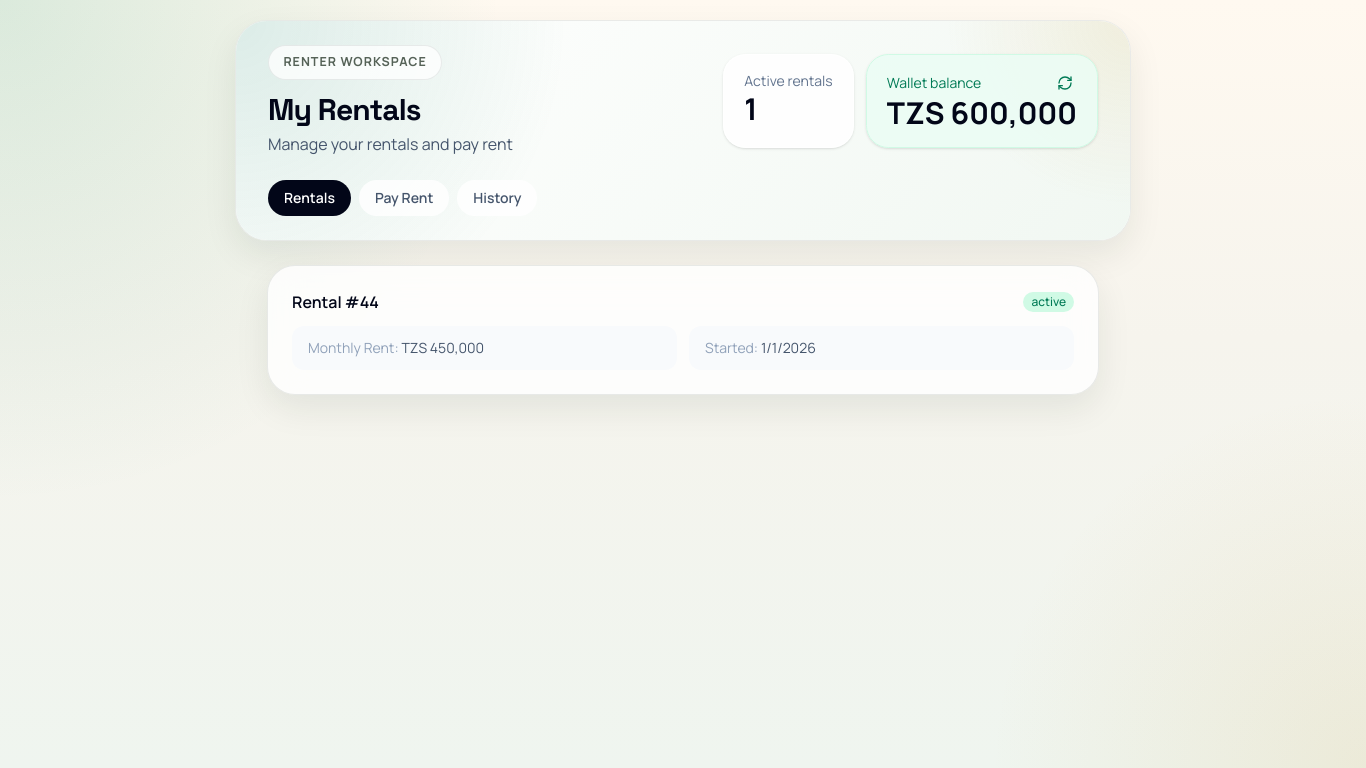
Scenario: MyRentals payment UX › shows confirmation errors without leaving the confirmation step
The width and height of the screenshot is (1366, 768).
Click the button "pay rent" at {"x": 404, "y": 198}, box 359,180 -> 449,216
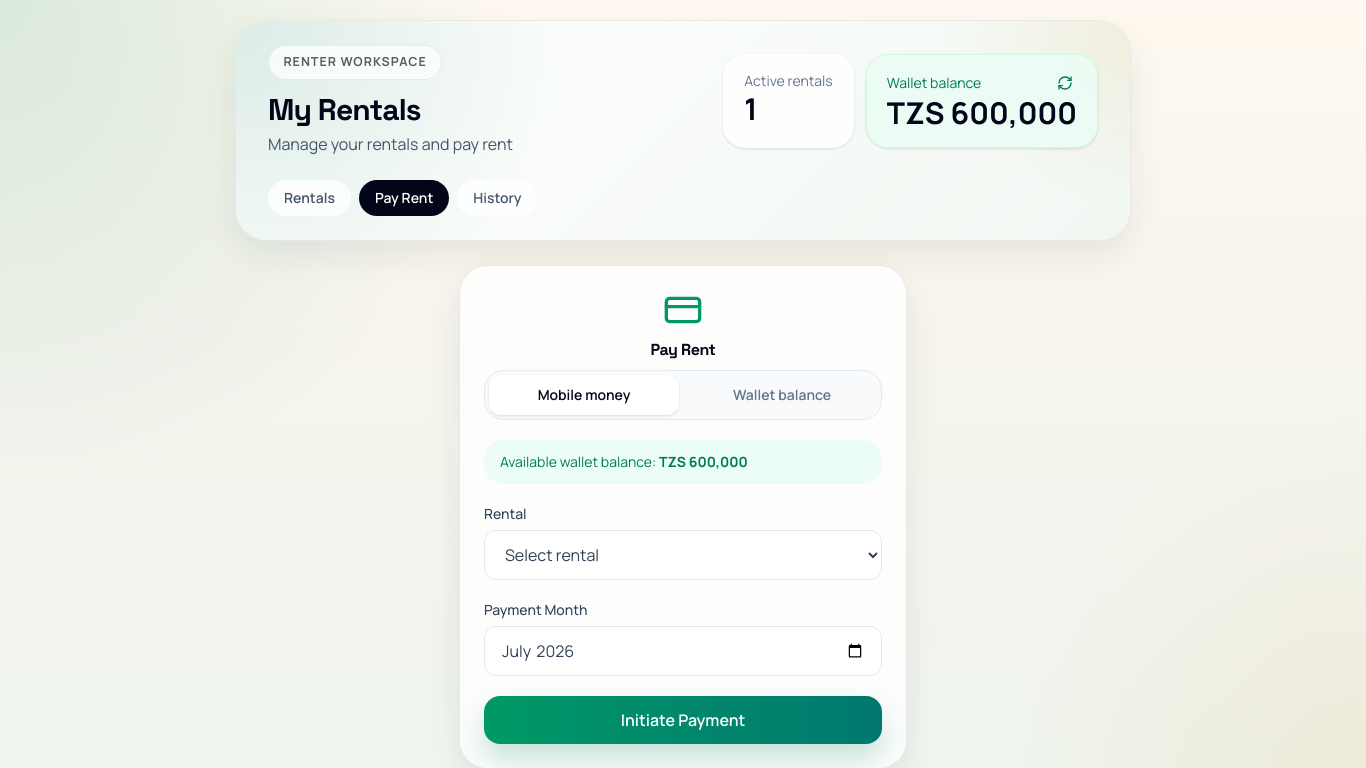
Select "Rental #44 - TZS 450,000/mo" in the dropdown at {"x": 683, "y": 555}, box 484,530 -> 882,580
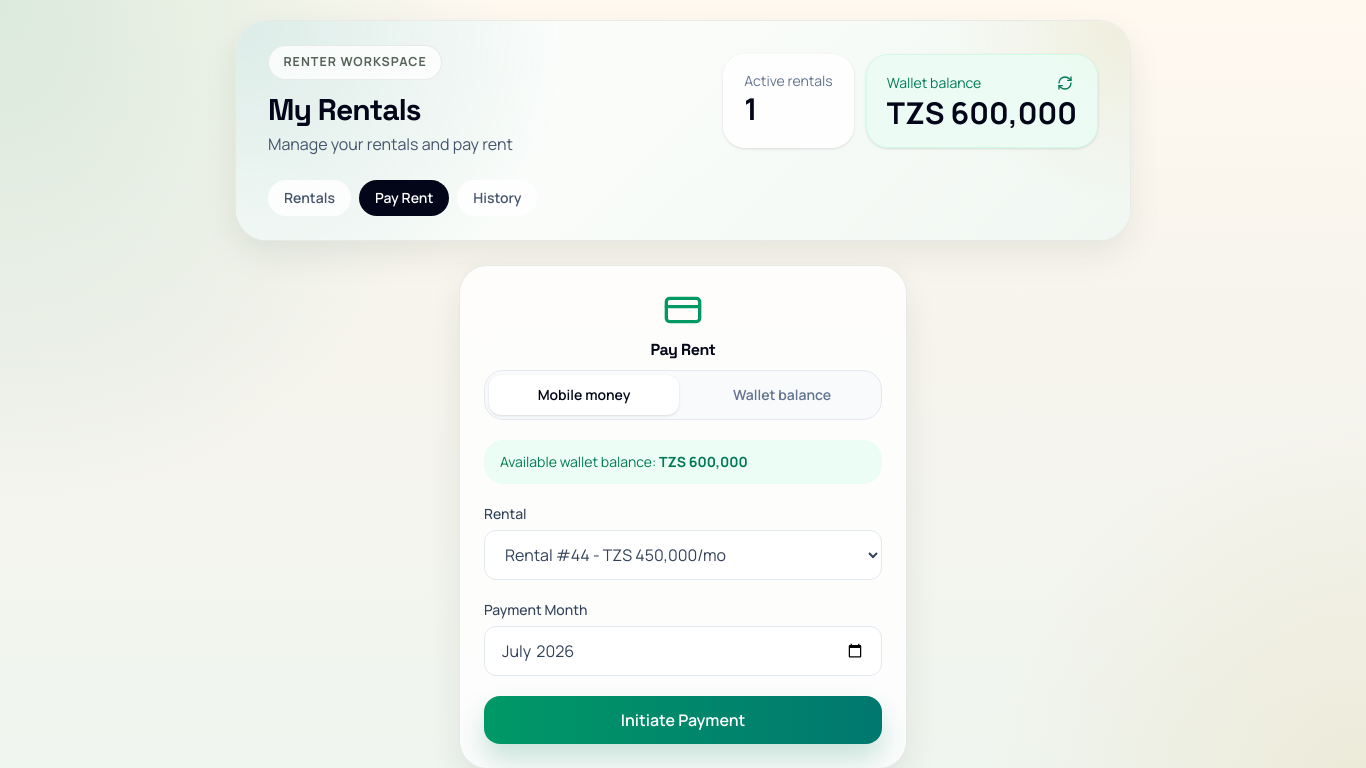
Click the button "Initiate Payment" at {"x": 683, "y": 720}, box 484,696 -> 882,744
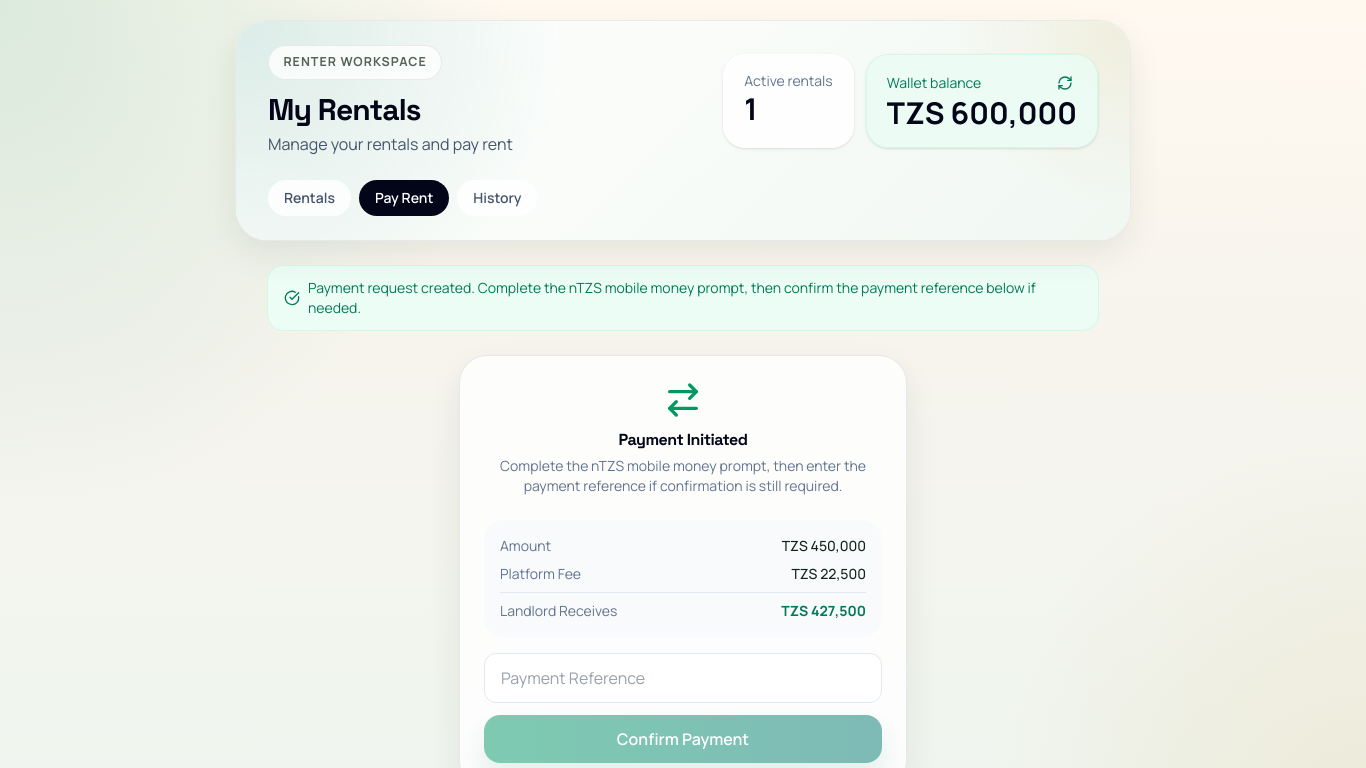
Result: the heading "Payment Initiated" is shown at 618,429 -> 748,450
Type "abc123" into the field with placeholder "Payment Reference" at {"x": 683, "y": 678}, box 484,653 -> 882,703
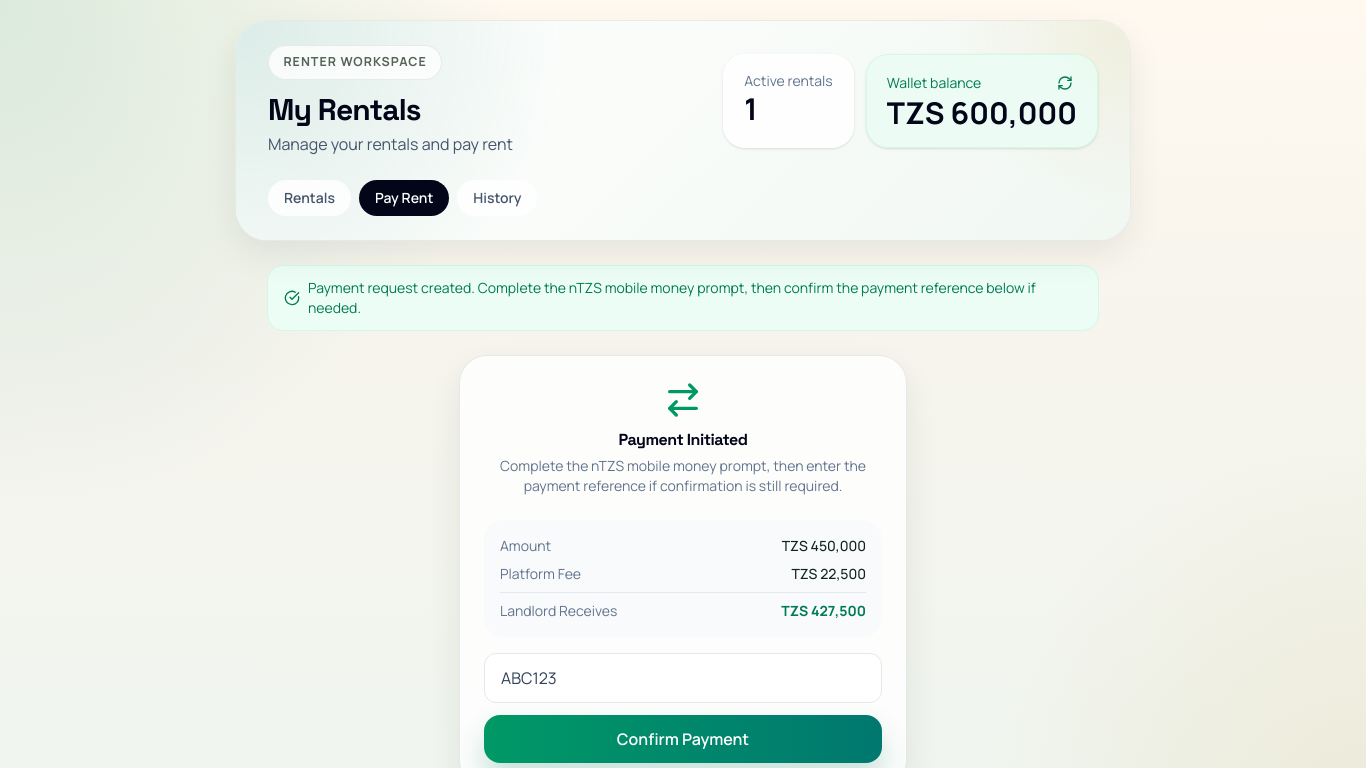
Click the button "Confirm Payment" at {"x": 683, "y": 739}, box 484,715 -> 882,763
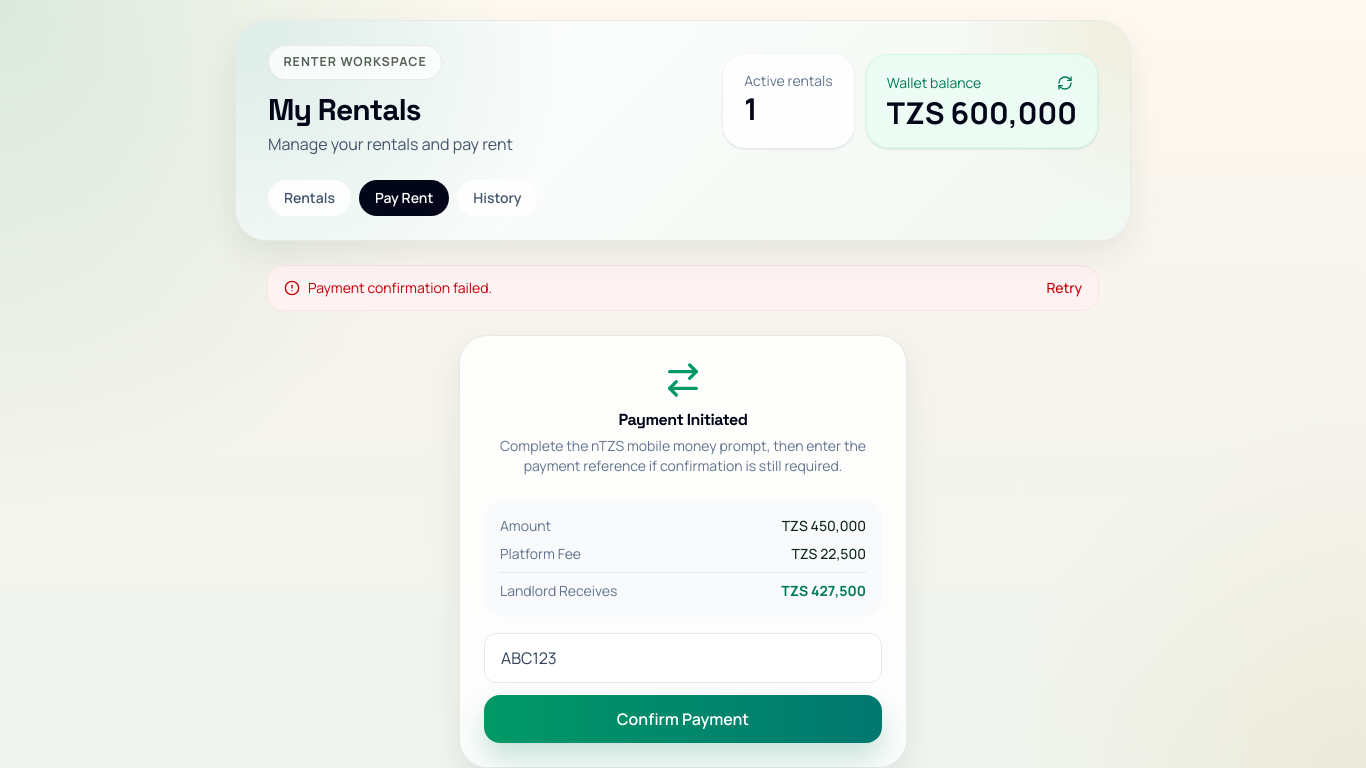
Result: the heading "Payment Initiated" is shown at 618,409 -> 748,430
Result: the text "Payment confirmation failed." is shown at 308,278 -> 492,298
